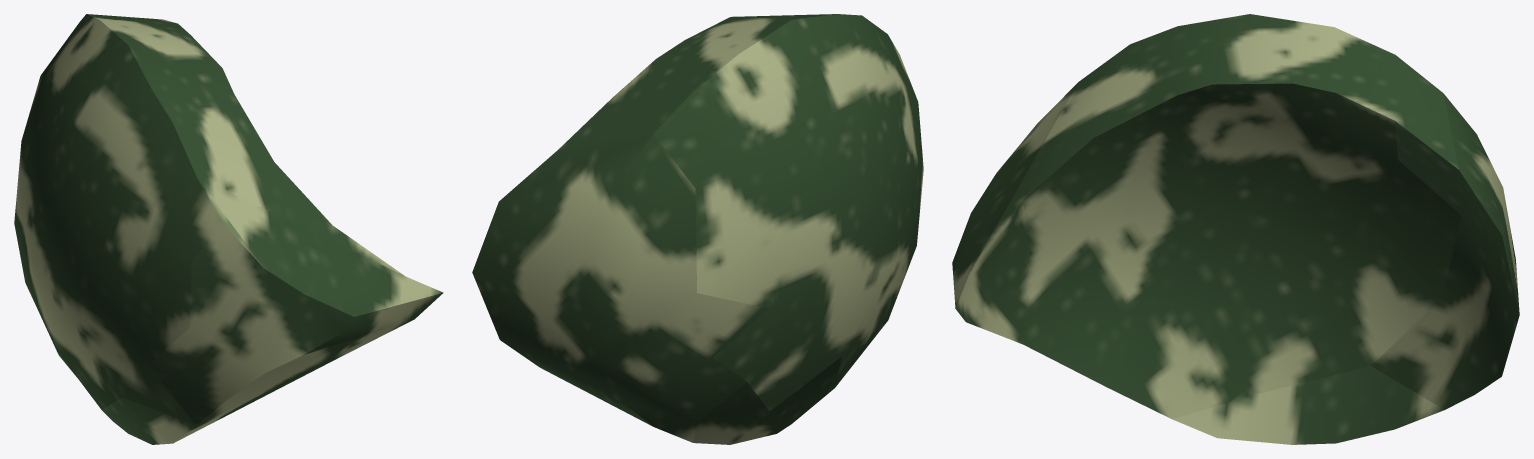
Rendered from link_body_20_composite.obj.
3 renders of one model, left to right at view 1: azimuth 30°, elevation 25°; view 2: azimuth 150°, elevation 25°; view 3: azimuth 270°, elevation 25°, orthographic. The views are drawn at different scales.
Visible parts, largest first — view 1: link_body_20; view 2: link_body_20; view 3: link_body_20.
Boxes of the visible parts, box(x1,y1,x2,y2) form: link_body_20: box(14, 14, 443, 444); link_body_20: box(472, 14, 923, 444); link_body_20: box(952, 14, 1519, 444).
Bounding box in the file's own units: 7.42 × 10.64 × 13.2.
Materials: 1 (1 with a texture image).
